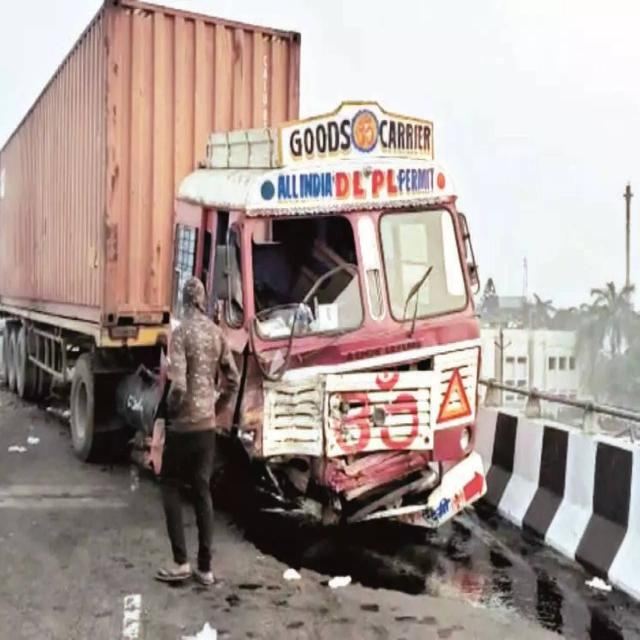accident: (0, 2, 484, 526)
